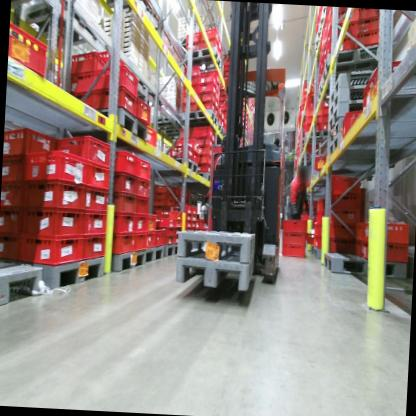pallet: (19, 252, 107, 300), (175, 222, 256, 271), (175, 253, 254, 296), (321, 40, 384, 86), (323, 252, 407, 280), (0, 260, 45, 312), (87, 107, 150, 144), (108, 245, 166, 285), (329, 83, 370, 117), (182, 44, 224, 73), (327, 100, 363, 130), (314, 73, 337, 106), (181, 108, 218, 127), (171, 155, 201, 176), (178, 172, 212, 189), (149, 112, 182, 129), (326, 117, 344, 148), (304, 129, 329, 147), (162, 126, 189, 141), (165, 239, 181, 262), (327, 133, 338, 157), (312, 247, 327, 261), (309, 245, 314, 254)
pallet_truck: (209, 3, 298, 311)
small_load_carrier: (91, 86, 161, 151), (360, 56, 411, 121), (52, 126, 111, 166), (21, 206, 86, 242), (20, 234, 84, 270), (22, 179, 86, 215), (8, 22, 49, 77), (25, 148, 87, 184), (3, 126, 54, 163), (94, 63, 140, 95), (360, 235, 410, 262), (361, 218, 409, 246), (70, 48, 112, 77), (342, 108, 371, 139), (86, 157, 112, 190), (325, 20, 358, 46), (2, 153, 25, 187), (0, 204, 22, 239), (85, 182, 107, 216), (96, 47, 127, 70), (325, 34, 358, 55), (112, 193, 139, 218), (87, 228, 108, 260), (327, 190, 360, 210), (113, 149, 138, 175), (2, 182, 25, 210), (328, 219, 358, 240), (110, 233, 136, 257), (111, 171, 137, 195), (328, 174, 359, 194), (323, 9, 359, 26), (0, 234, 20, 264), (68, 71, 94, 94), (327, 238, 357, 257), (112, 212, 135, 236), (88, 208, 108, 235), (166, 141, 194, 160), (329, 206, 360, 223), (357, 15, 382, 36), (135, 157, 154, 184), (177, 134, 201, 154), (135, 97, 153, 121), (153, 207, 181, 222), (282, 216, 308, 232), (358, 26, 380, 44), (281, 231, 306, 246), (281, 245, 306, 260), (135, 193, 151, 216), (136, 174, 152, 197), (74, 93, 94, 111), (133, 232, 149, 254), (134, 213, 149, 235), (355, 9, 382, 21), (202, 25, 219, 44), (202, 67, 219, 85), (195, 126, 214, 141), (186, 28, 202, 45), (152, 228, 164, 250), (182, 64, 202, 77), (198, 88, 215, 103), (146, 208, 157, 231), (199, 82, 217, 96), (312, 152, 326, 170), (198, 74, 217, 87), (181, 91, 200, 104), (177, 125, 195, 138), (197, 100, 215, 113), (305, 114, 322, 127), (196, 135, 214, 147), (154, 219, 175, 229), (201, 40, 218, 52), (182, 84, 199, 96), (195, 144, 213, 155), (173, 219, 191, 230), (304, 121, 322, 132), (314, 224, 328, 238), (145, 230, 157, 246), (185, 39, 201, 51), (182, 102, 199, 113), (153, 185, 170, 196), (172, 211, 192, 220), (176, 203, 192, 214), (306, 100, 323, 110), (185, 74, 199, 86), (313, 237, 325, 251), (199, 153, 212, 165), (164, 227, 178, 238), (314, 213, 328, 224), (306, 90, 320, 101), (305, 107, 322, 116), (355, 221, 363, 240), (314, 199, 324, 214), (188, 205, 197, 221), (163, 237, 177, 247), (198, 164, 212, 174), (151, 200, 165, 210), (151, 192, 166, 201), (354, 240, 361, 255), (193, 151, 199, 164), (217, 46, 222, 59), (213, 105, 218, 117), (218, 38, 222, 51), (215, 81, 219, 93), (214, 89, 218, 100), (191, 221, 197, 228), (215, 97, 217, 108)
